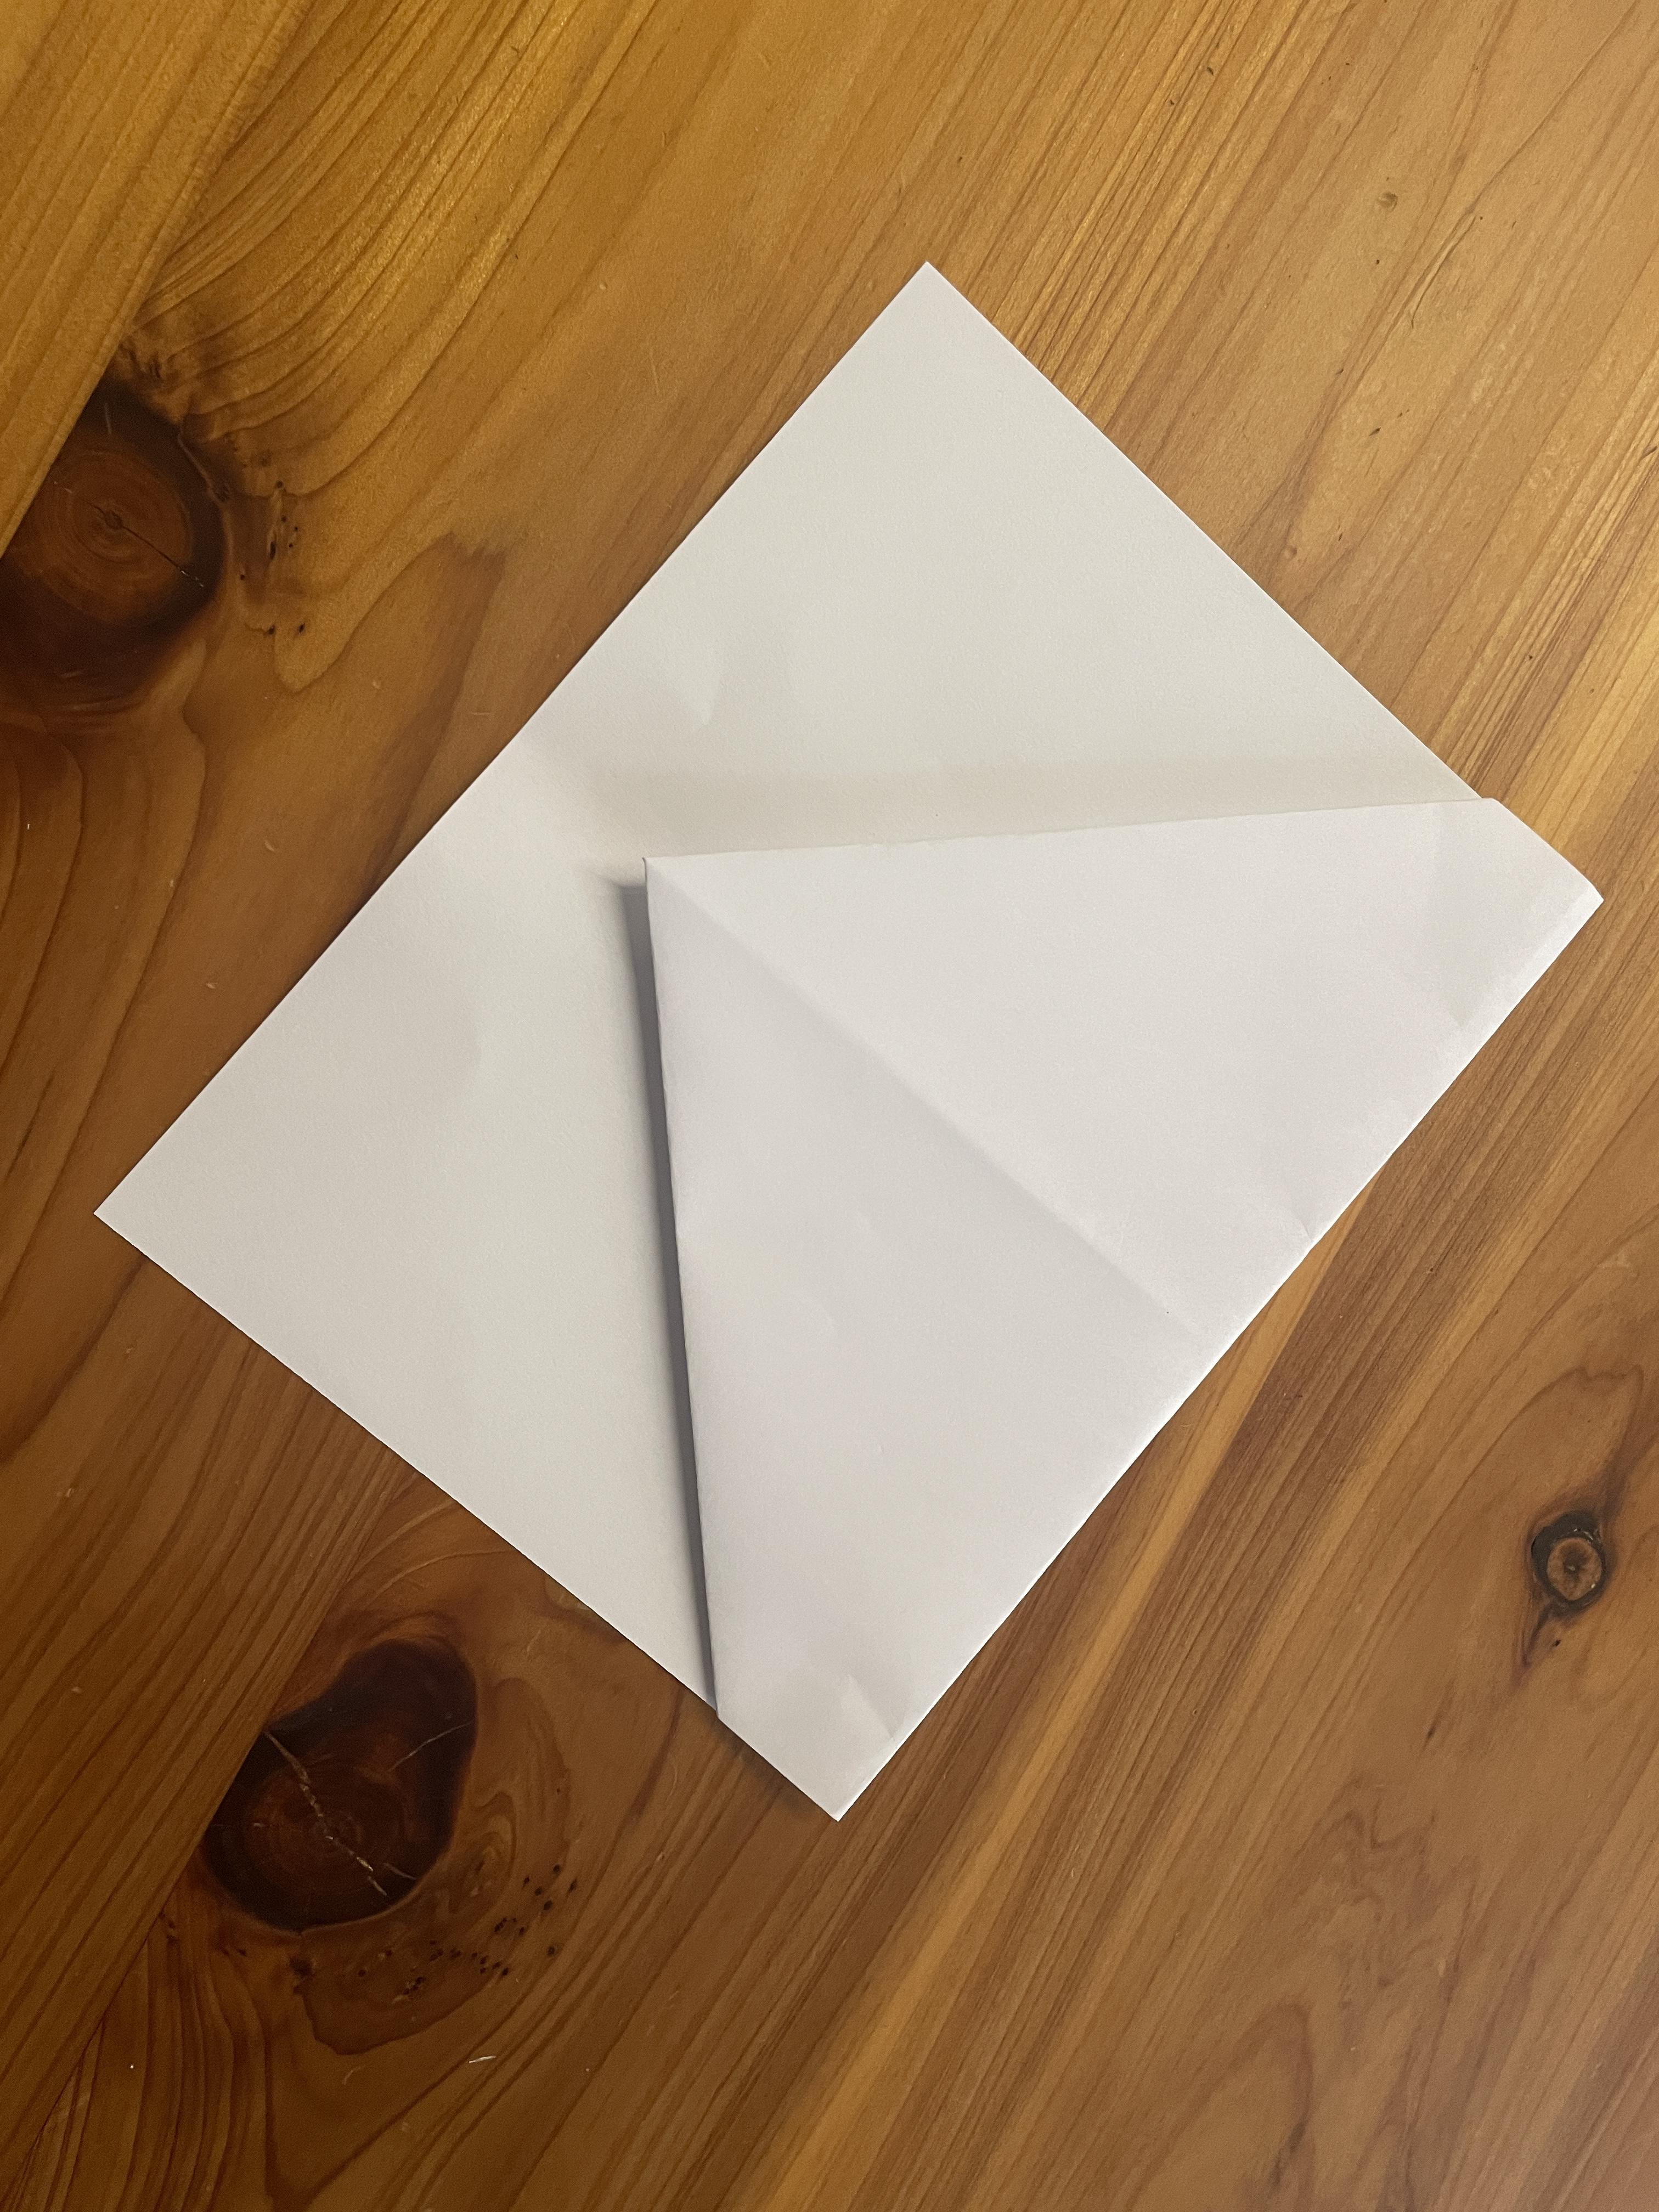shape_1: (82, 138, 1636, 1898)
